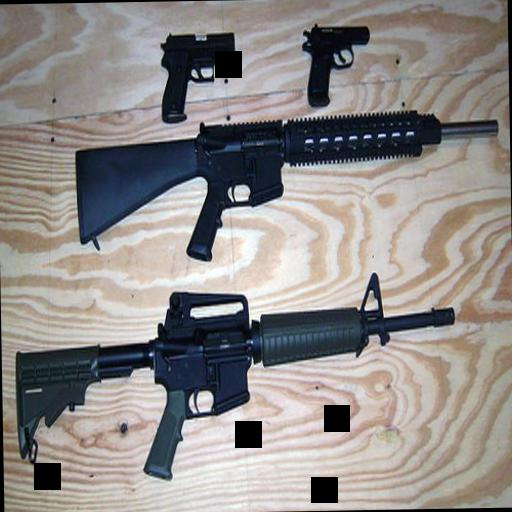Handgun: (154, 30, 240, 120), (302, 18, 372, 109)
